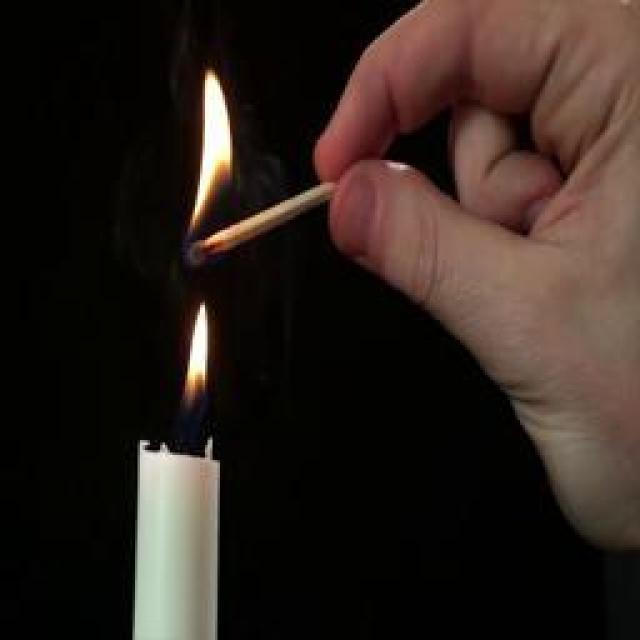Fire: (194, 70, 236, 230), (186, 302, 209, 406)
